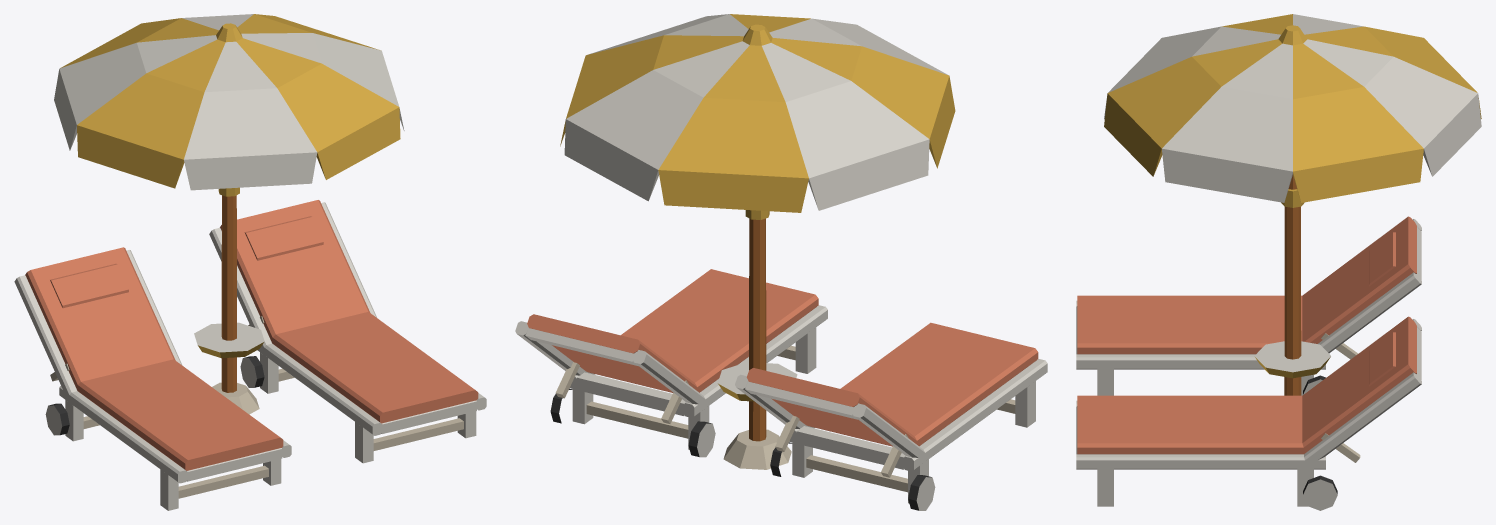
The model's file is sezlong_semsiye_2.glb.
3 renders of one model, left to right at view 1: azimuth 30°, elevation 25°; view 2: azimuth 150°, elevation 25°; view 3: azimuth 270°, elevation 25°, orthographic. The views are drawn at different scales.
Visible parts, largest first — view 1: sezlong_semsiye_2; view 2: sezlong_semsiye_2; view 3: sezlong_semsiye_2.
Part boxes in pixels (left/top/right/bottom): sezlong_semsiye_2: left=14, top=14, right=486, bottom=510; sezlong_semsiye_2: left=515, top=14, right=1047, bottom=510; sezlong_semsiye_2: left=1076, top=14, right=1481, bottom=510.
Bounding box in the file's own units: 2.15 × 2.4 × 2.21.
